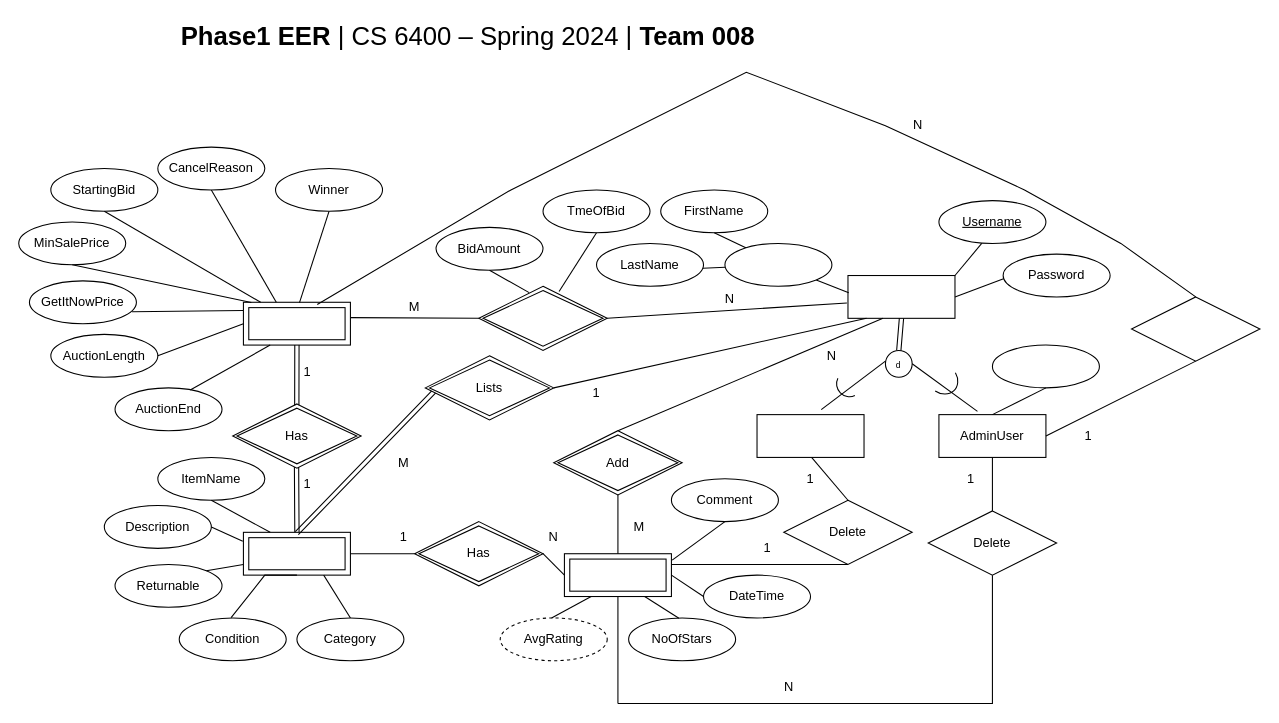
Image size: 1279x723. Some labels were removed from this diagram. The shapes that lost their labels are listed below. From the top down, each one's centre as x and y in pixels, then its label:
At (x=778, y=264): "Name".
At (x=901, y=296): "User".
At (x=296, y=323): "Auction".
At (x=542, y=317): "Bids".
At (x=1195, y=328): "CancelledBy".
At (x=1045, y=366): "Position".
At (x=810, y=435): "RegularUser".
At (x=296, y=553): "Item".
At (x=617, y=575): "Rating".
